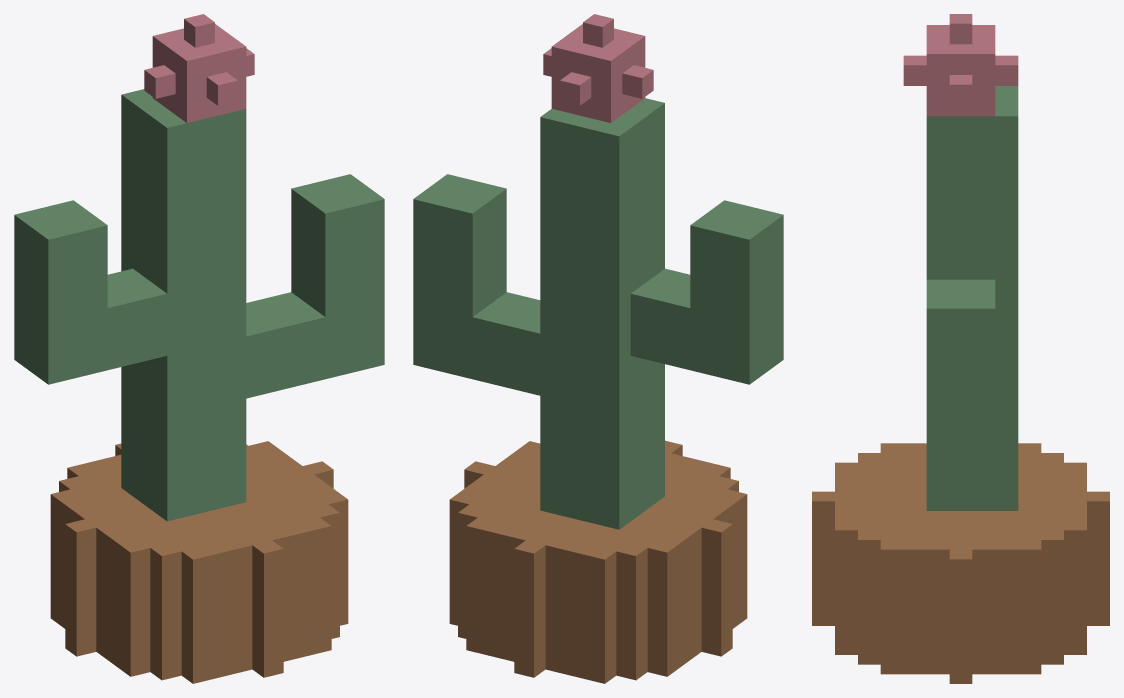
Rendered from gardening-10.glb.
3 views of the same model, side by side, from view 1: azimuth 30°, elevation 25°; view 2: azimuth 150°, elevation 25°; view 3: azimuth 270°, elevation 25° (orthographic).
Visible parts, largest first — view 1: Cactus; view 2: Cactus; view 3: Cactus.
Part boxes in pixels (left/top/right/bottom): Cactus: left=14, top=14, right=384, bottom=683; Cactus: left=413, top=14, right=783, bottom=683; Cactus: left=812, top=14, right=1109, bottom=683.
Bounding box in the file's own units: 1.36 × 2.32 × 1.04.
